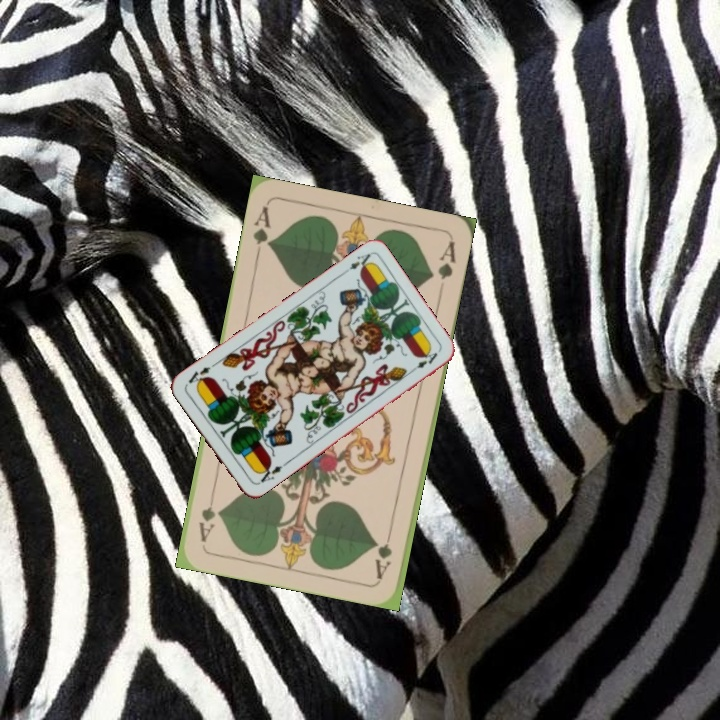EA: (337, 249, 374, 278), (253, 460, 285, 487)
GA: (249, 202, 274, 261), (371, 522, 396, 581)
